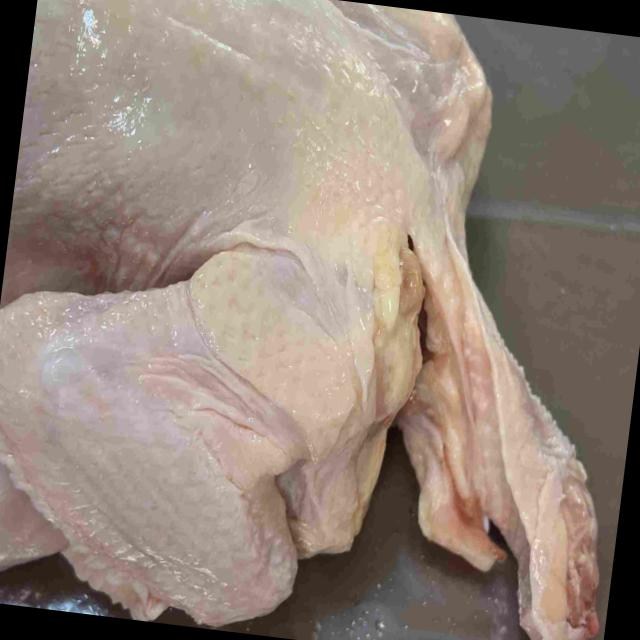back: (13, 0, 360, 215)
neck: (401, 224, 595, 640)
wing: (0, 236, 367, 622), (340, 0, 493, 210)
